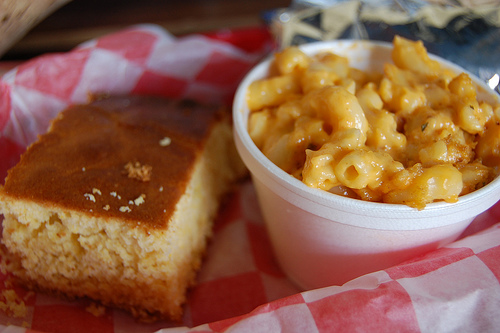macncheese: (247, 36, 500, 210)
